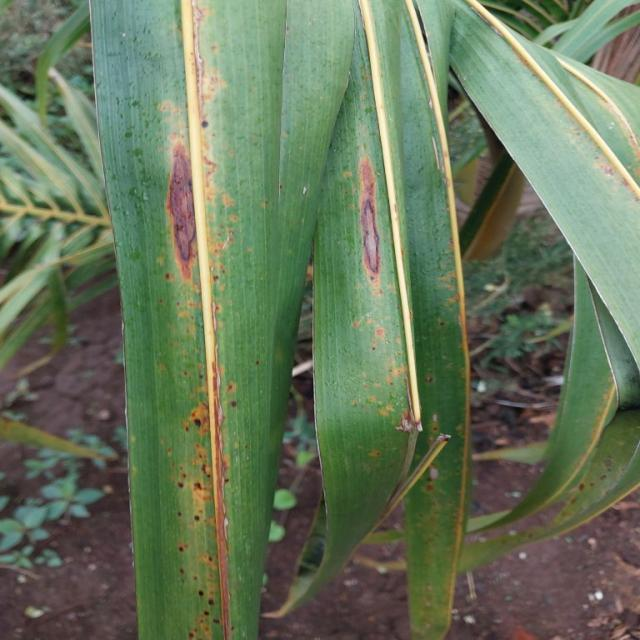gray leaf spot: (157, 0, 254, 636), (339, 147, 401, 319)
